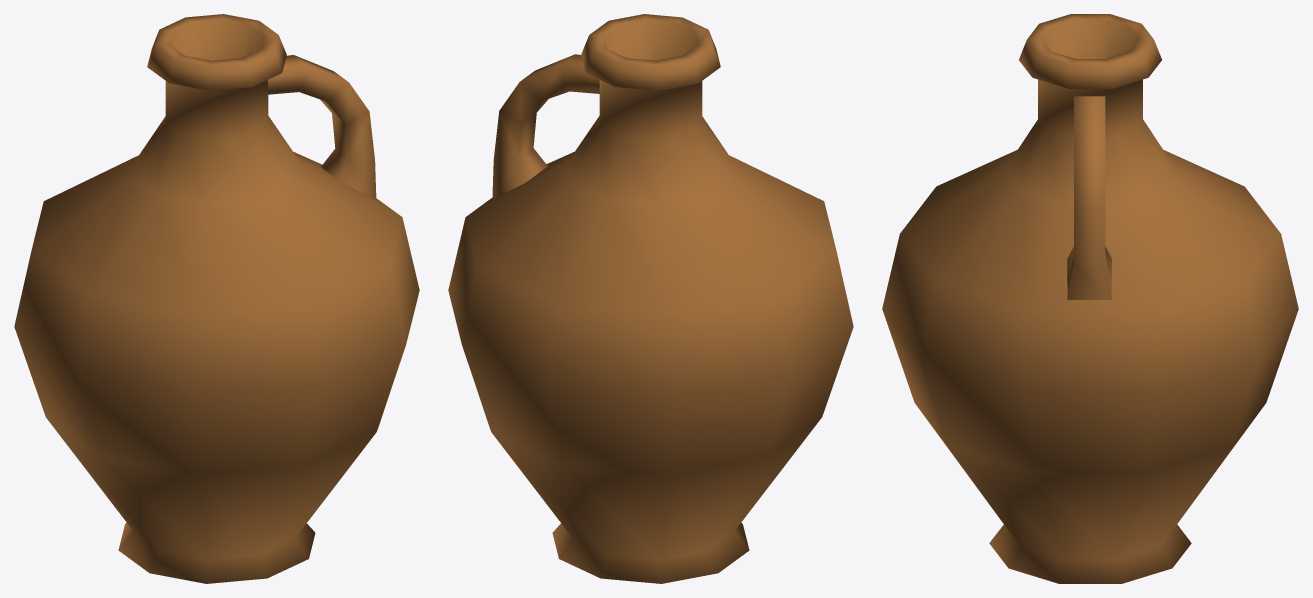
Rendered from rpgpp_ag_jug_02a.fbx.
3 views of the same model, side by side, from view 1: azimuth 30°, elevation 25°; view 2: azimuth 150°, elevation 25°; view 3: azimuth 270°, elevation 25° (orthographic).
Parts seen in each view (by area): view 1: rpgpp_ag_jug_02a; view 2: rpgpp_ag_jug_02a; view 3: rpgpp_ag_jug_02a.
Boxes of the visible parts, box(x1,y1,x2,y2) form: rpgpp_ag_jug_02a: box(14, 14, 419, 583); rpgpp_ag_jug_02a: box(448, 14, 853, 583); rpgpp_ag_jug_02a: box(882, 14, 1298, 583).
Bounding box in the file's own units: 0.2977 × 0.4176 × 0.313.
